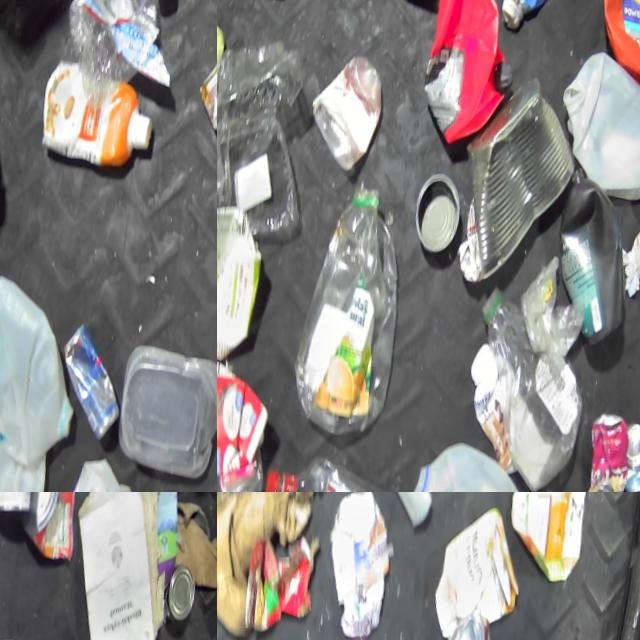can: (452, 66, 584, 288), (303, 48, 388, 175), (58, 314, 120, 428), (410, 167, 465, 256), (580, 406, 633, 492), (20, 492, 87, 559), (159, 556, 196, 628), (618, 416, 640, 492), (440, 611, 494, 640)
milk_jug: (0, 265, 84, 467), (550, 43, 640, 205), (399, 432, 538, 492), (54, 439, 143, 492), (0, 402, 45, 492)
non_white_jug: (546, 163, 640, 352), (416, 0, 523, 148), (217, 197, 267, 364), (217, 353, 273, 485), (591, 0, 640, 96)
plastic_bottle: (284, 176, 414, 444), (460, 281, 595, 492), (71, 0, 158, 86)
